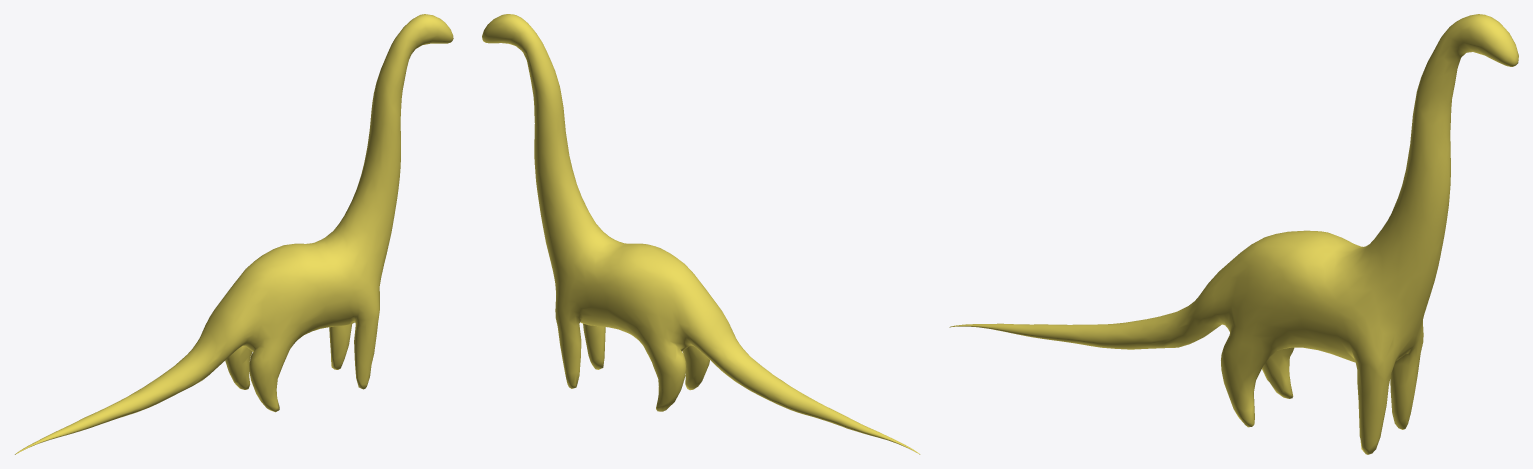
Rendered from brac.glb.
3 renders of one model, left to right at view 1: azimuth 30°, elevation 25°; view 2: azimuth 150°, elevation 25°; view 3: azimuth 330°, elevation 25°, orthographic. The views are drawn at different scales.
Visible parts, largest first — view 1: Icosphere; view 2: Icosphere; view 3: Icosphere.
Part boxes in pixels (left/top/right/bottom): Icosphere: left=15, top=14, right=453, bottom=454; Icosphere: left=482, top=14, right=920, bottom=454; Icosphere: left=949, top=14, right=1518, bottom=454.
Size of the model in its own units: 18.7 by 14.13 by 2.99.
